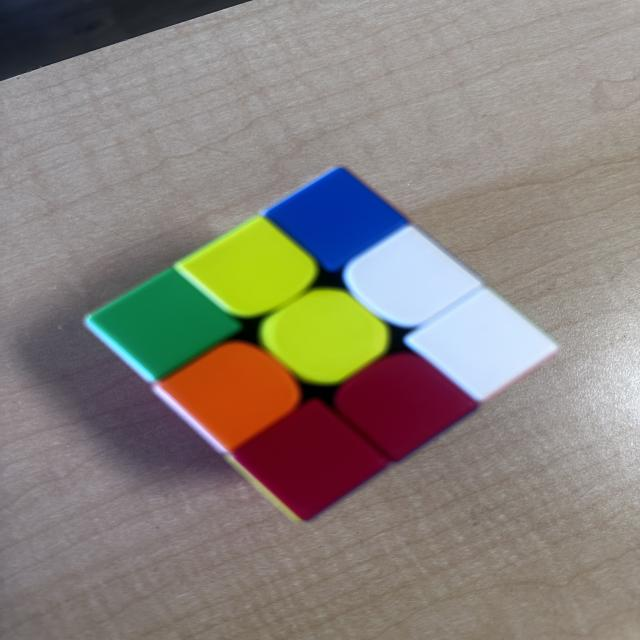sticker: (232, 402, 392, 521), (160, 339, 306, 450), (413, 290, 556, 401), (332, 352, 476, 460), (94, 273, 237, 375), (269, 172, 404, 266), (184, 221, 316, 314), (351, 230, 478, 325), (264, 296, 388, 383)
